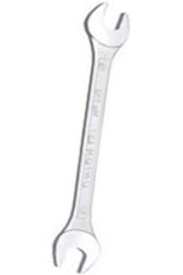Wrench: (49, 3, 132, 273)
